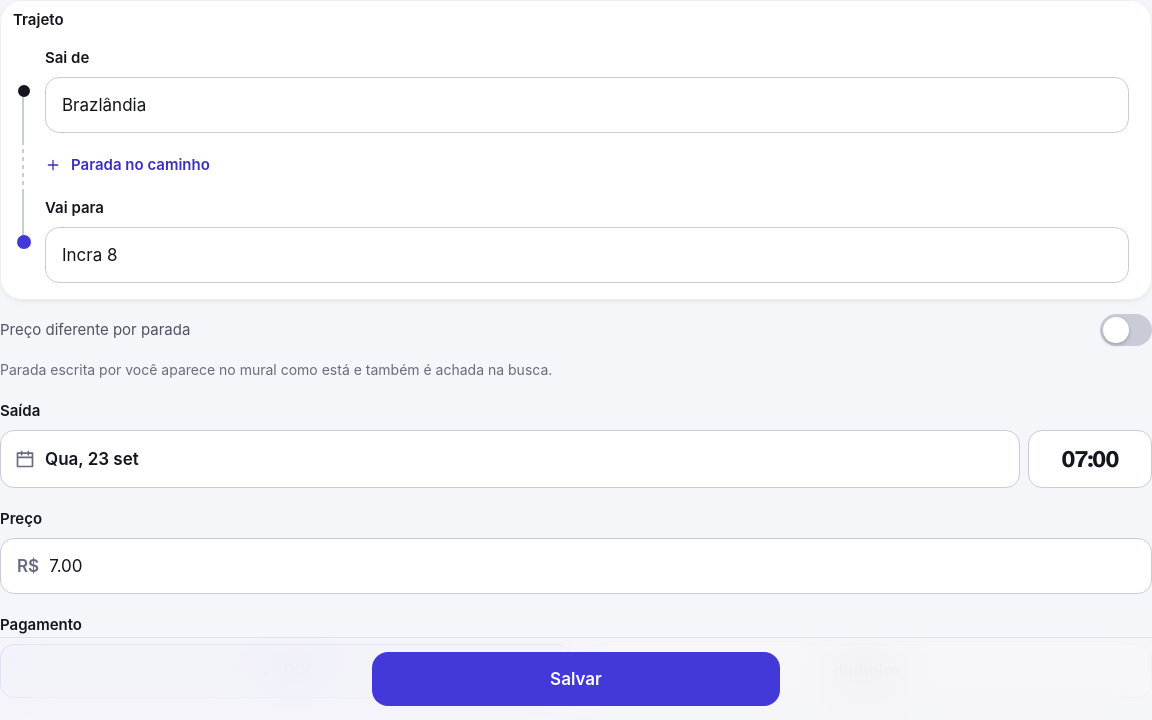
Test: RideForm › asks no fare for the stop the ride leaves from, once fares are switched on
Expected: the field labelled "Preço até aqui" is not shown
Click the switch named "Preço diferente por parada".
click(1126, 330)  # box [1100,314,1151,346]
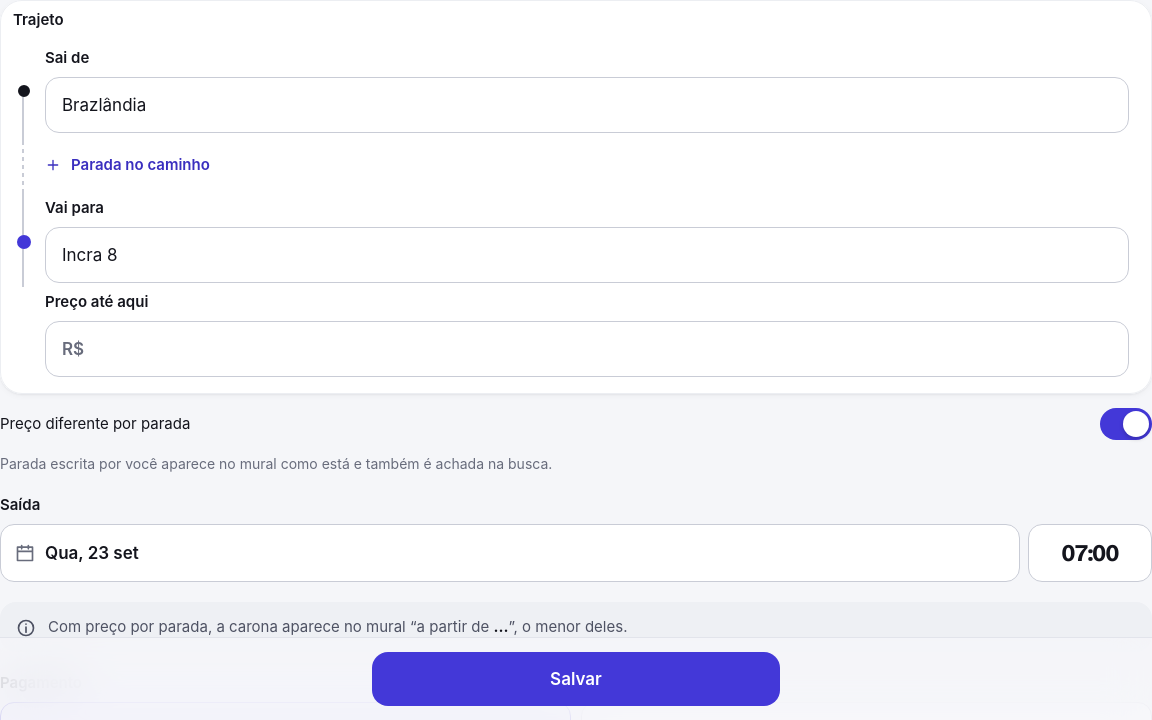
Now the number of number fields labelled "Preço até aqui" is 1, box [94,323,1112,375]
